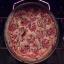pizza: (9, 8, 55, 58)
